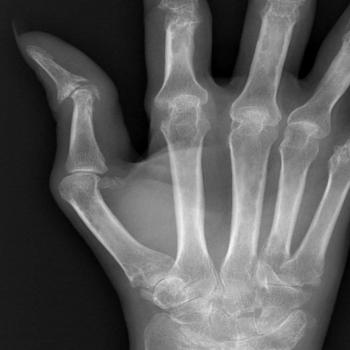Fracture: (55, 76, 104, 107)
